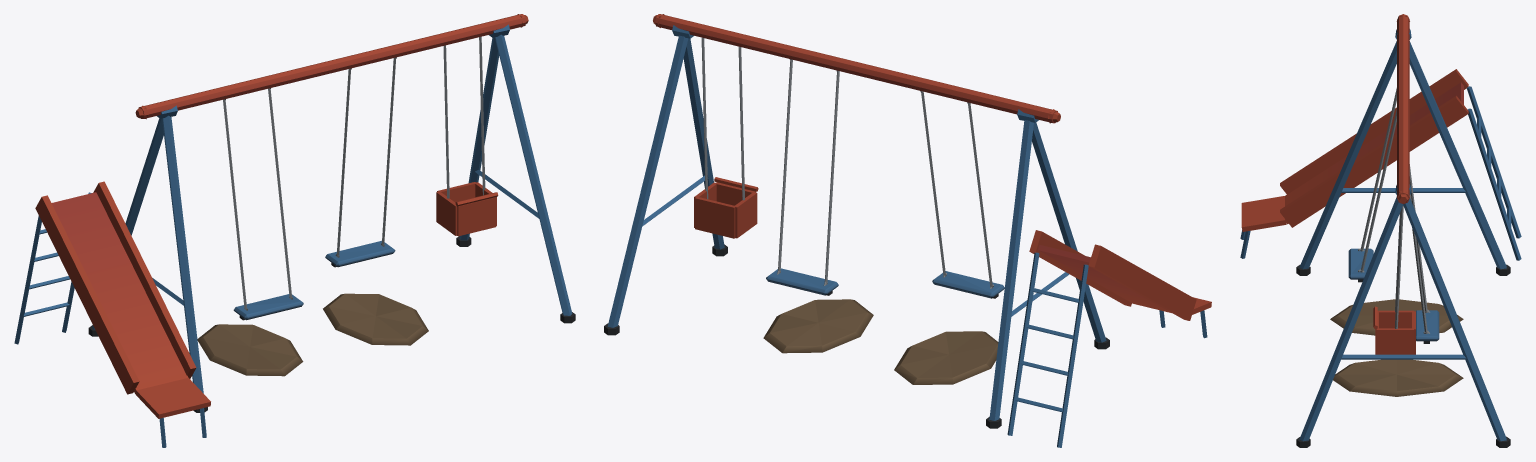
Rendered from swing_set.glb.
3 renders of one model, left to right at view 1: azimuth 30°, elevation 25°; view 2: azimuth 150°, elevation 25°; view 3: azimuth 270°, elevation 25°, orthographic. The views are drawn at different scales.
Parts seen in each view (by area): view 1: swing_set; view 2: swing_set; view 3: swing_set.
Part boxes in pixels (left/top/right/bottom): swing_set: left=14, top=14, right=575, bottom=447; swing_set: left=604, top=14, right=1211, bottom=447; swing_set: left=1240, top=14, right=1521, bottom=447.
Size of the model in its own units: 3.86 by 2.15 by 2.14.
